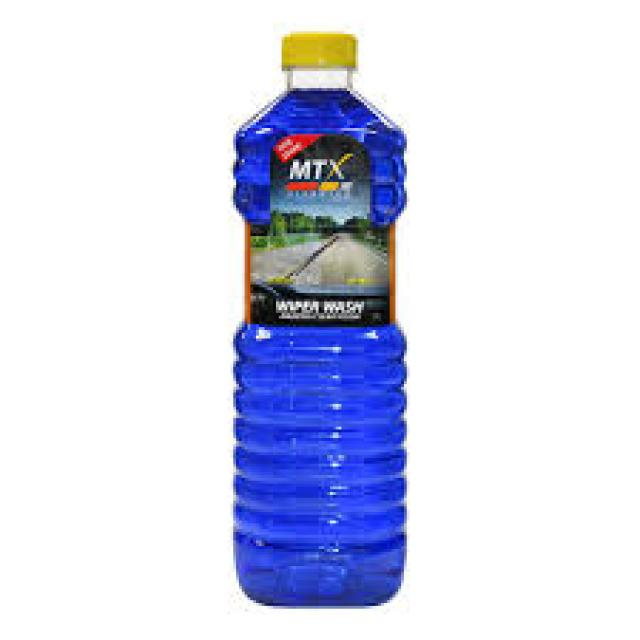winwinshield_washer: (230, 23, 412, 611)
